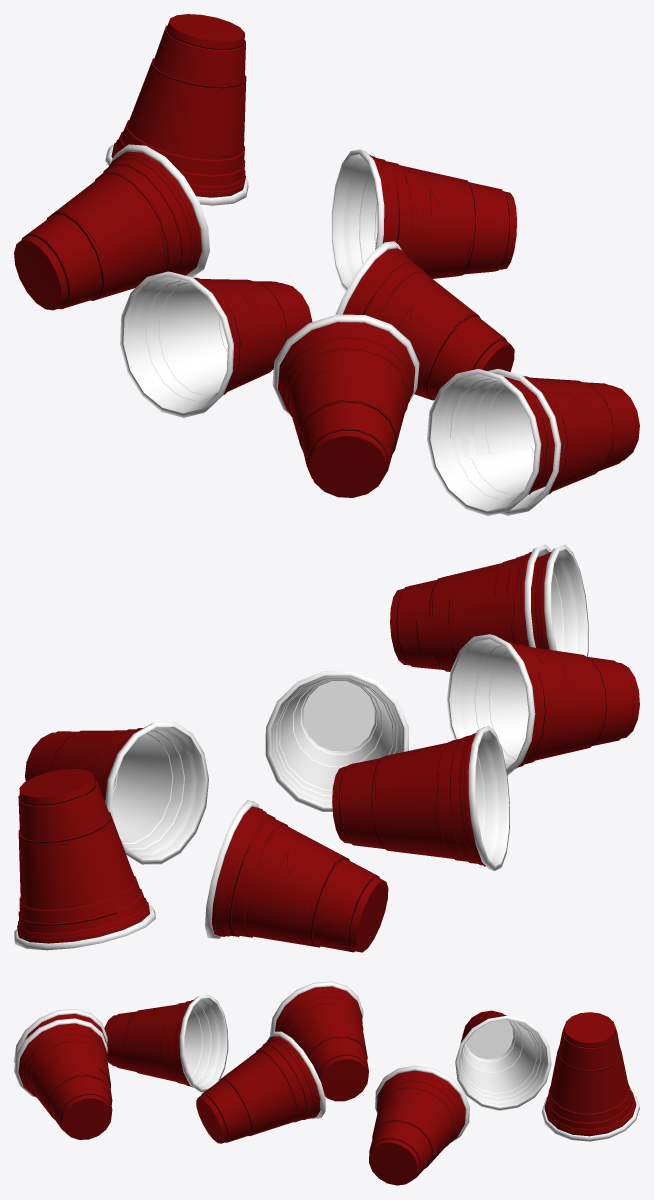
File: cupnew.glb
The picture shows the model from 3 angles, top to bottom: view 1: azimuth 30°, elevation 25°; view 2: azimuth 150°, elevation 25°; view 3: azimuth 270°, elevation 25°; orthographic projection. The views are drawn at different scales.
Bounding box in the file's own units: 0.5759 × 0.2367 × 1.11.
4 materials, 2 textured.
